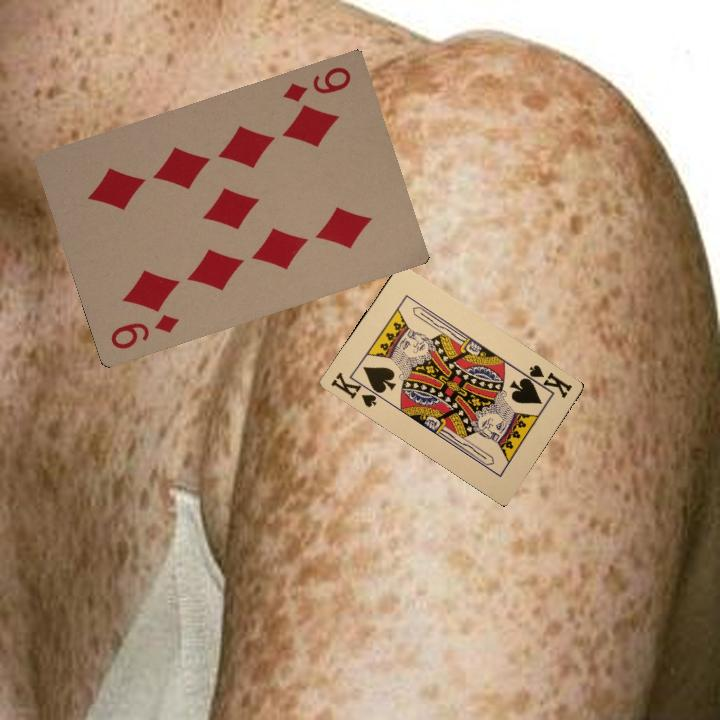9d: (106, 309, 182, 352), (278, 62, 354, 105)
Ks: (327, 368, 383, 410), (519, 361, 575, 401)
